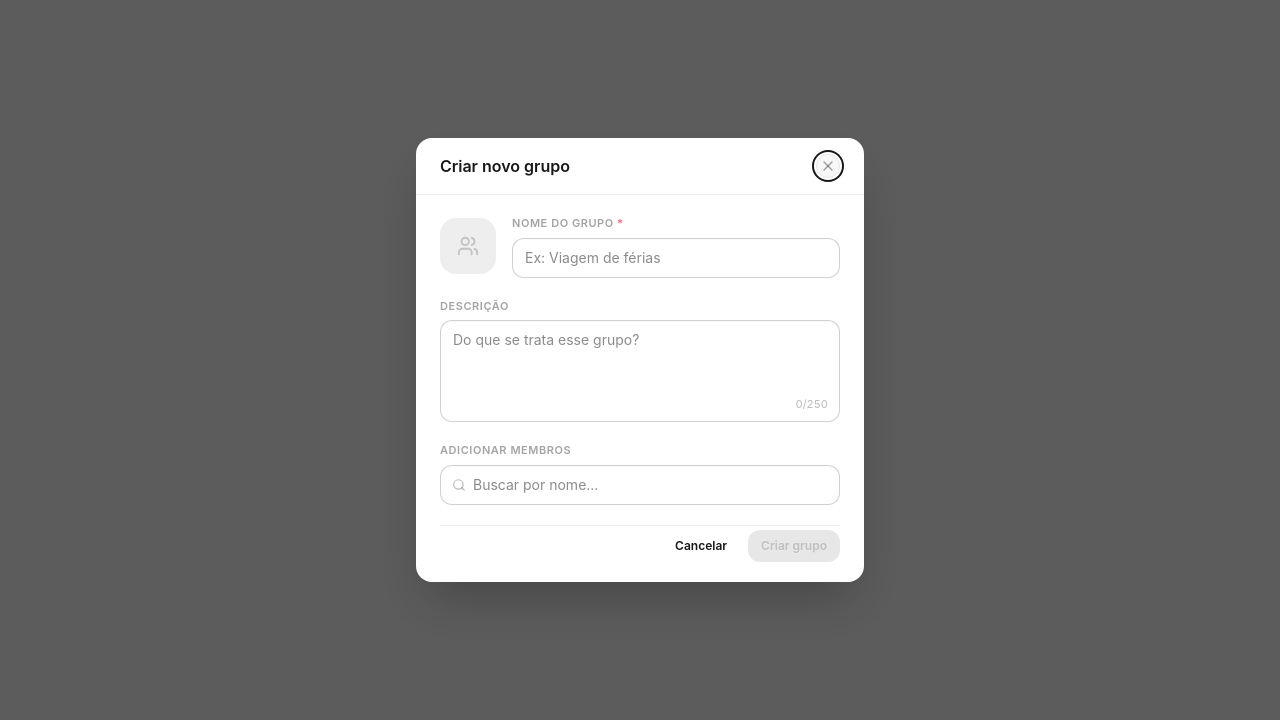
Scenario: CreateGroupModal › modo criação › botão de submit é habilitado ao digitar o nome
Type "Novo Grupo" into the field with placeholder "Ex: Viagem de férias".
click(676, 258); type("Novo Grupo")  # box [512,238,840,278]
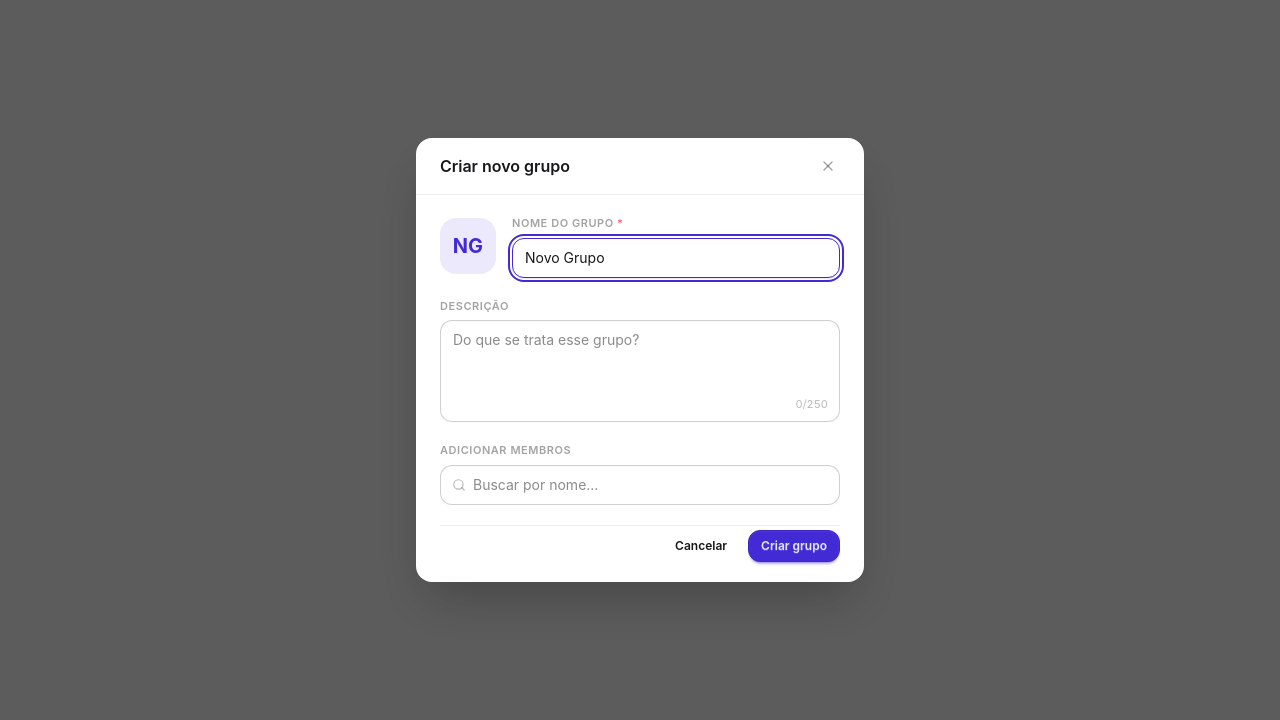
Now the button "Criar grupo" is enabled, box [748,530,840,562]
